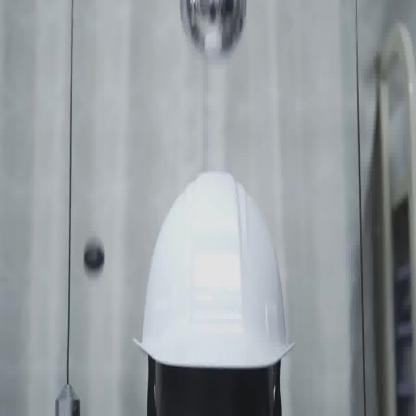helmet: (132, 168, 297, 372)
